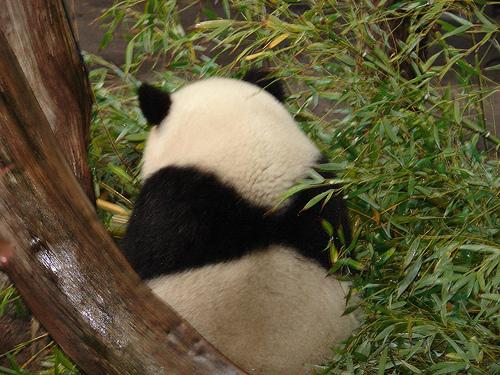panda: (120, 71, 358, 374)
